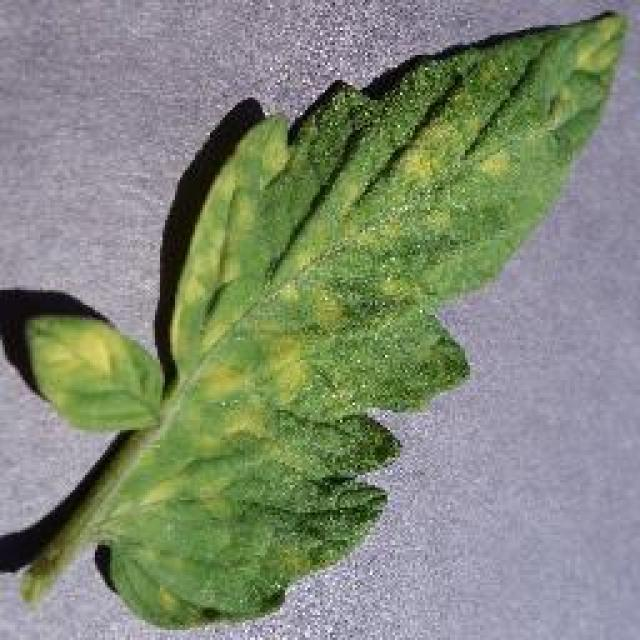Tomato mold leaf: (21, 15, 624, 630)
